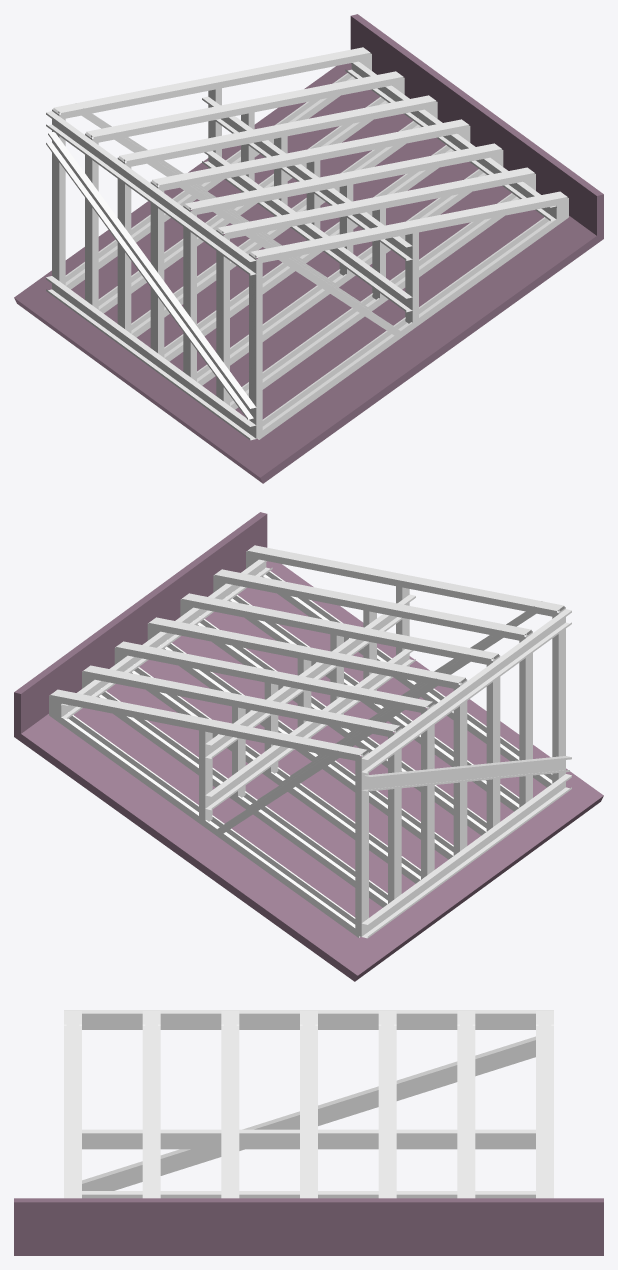
File: asset.glb
The picture shows the model from 3 angles, top to bottom: view 1: azimuth 30°, elevation 25°; view 2: azimuth 150°, elevation 25°; view 3: azimuth 270°, elevation 25°; orthographic projection. The views are drawn at different scales.
Visible parts, largest first — view 1: imagetostl_mesh; view 2: imagetostl_mesh; view 3: imagetostl_mesh.
Boxes of the visible parts, x1,y1,x2,y2 form: imagetostl_mesh: (14, 14, 603, 483); imagetostl_mesh: (14, 512, 603, 981); imagetostl_mesh: (14, 1010, 603, 1255).
Size of the model in its own units: 96.72 by 55.79 by 120.
